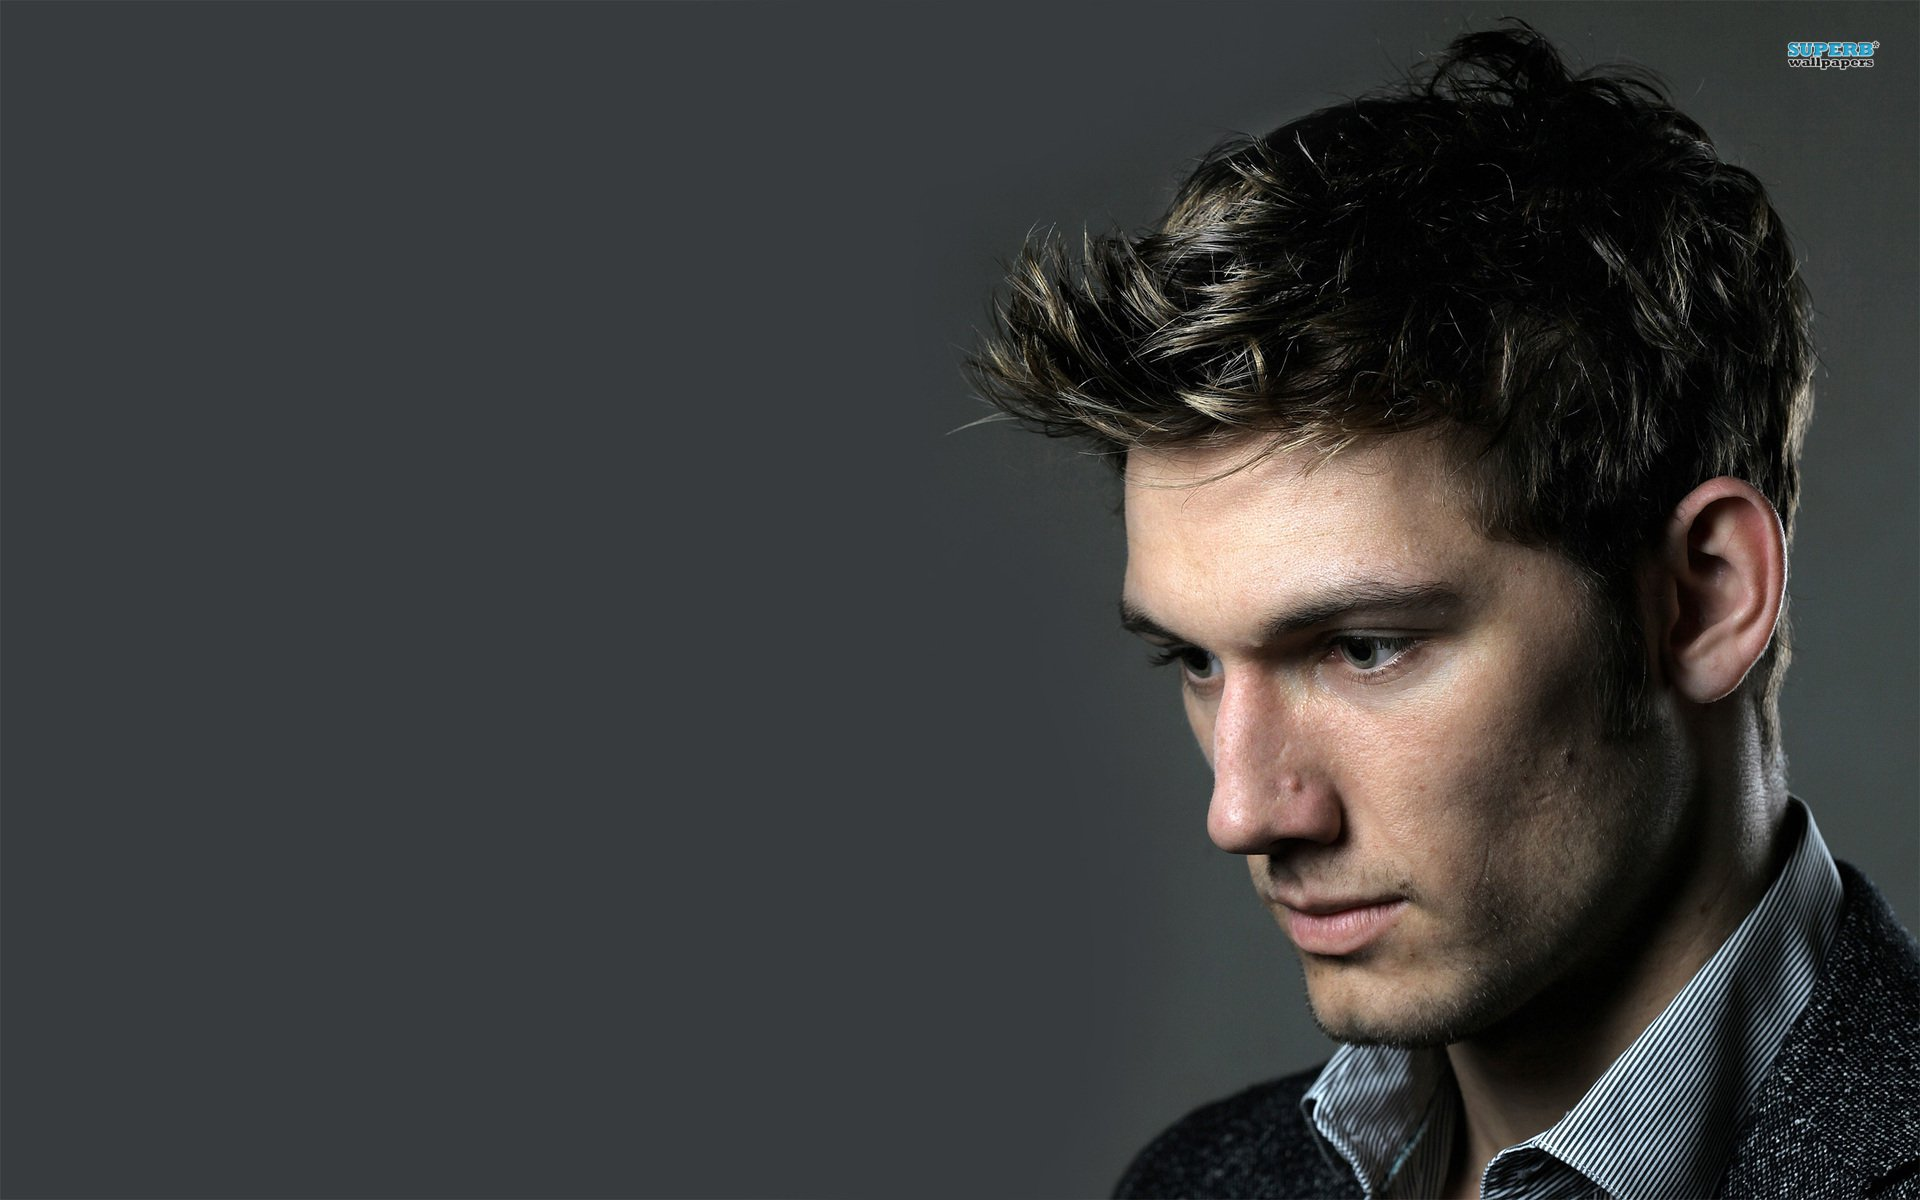noMask: (1000, 87, 1809, 1061)
